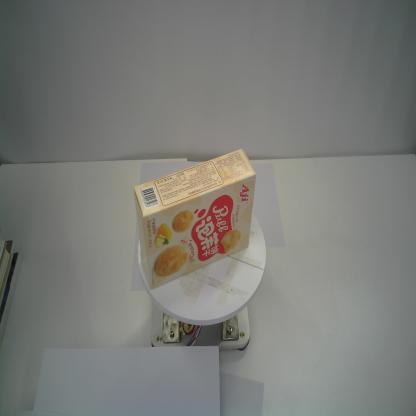Dessert: (132, 148, 257, 292)
